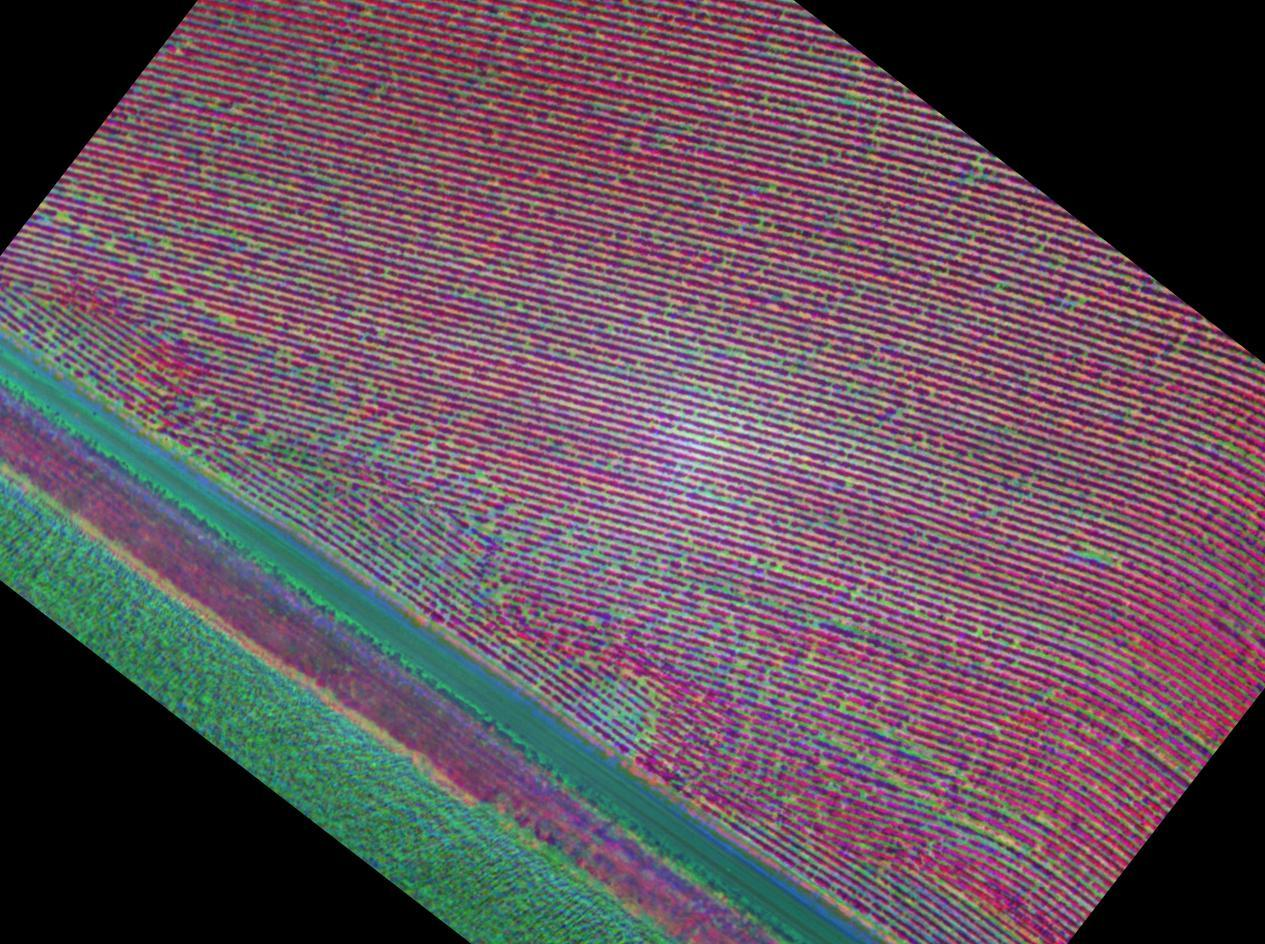dc: (60, 213, 65, 218), (177, 287, 181, 292), (224, 317, 228, 322), (374, 449, 377, 453), (263, 441, 266, 444)
